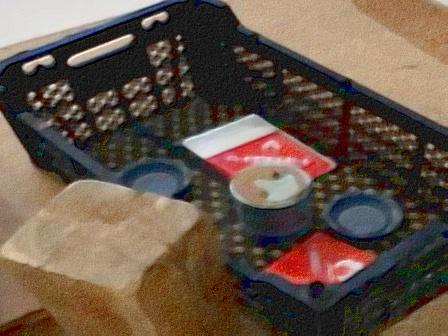flammable: (206, 132, 334, 196), (267, 232, 380, 300)
